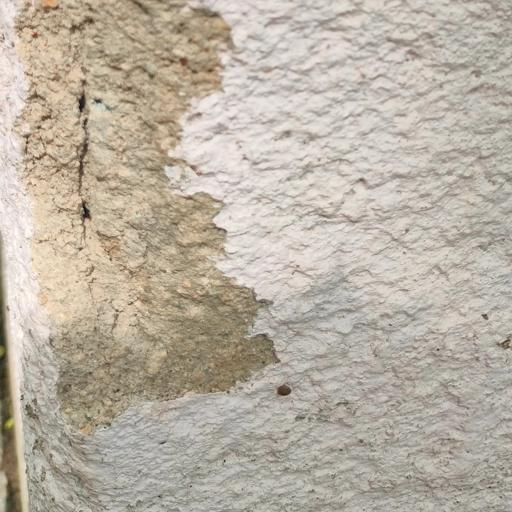spalling: (11, 6, 286, 413)
